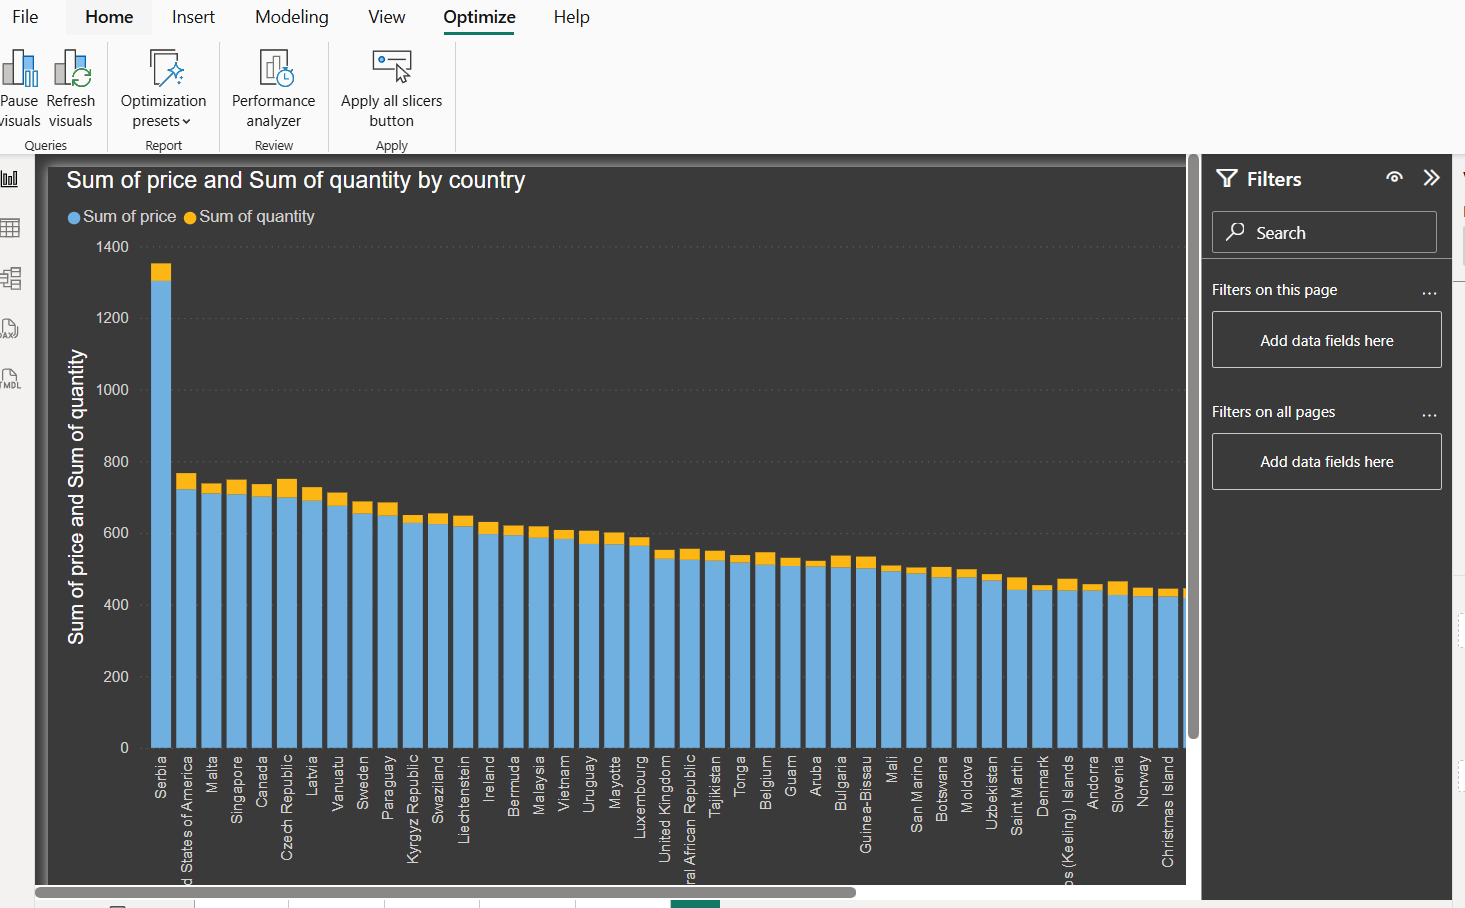

The dashboard page shown, as its layout file describes it:
{"tool":"powerbi","page":{"name":"Page 2","canvas":[1280,720],"ordinal":1},"visuals":[{"type":"clusteredColumnChart","fields":{"Y":["Sum(run-1752526286075-part-r-00000.price)","Sum(run-1752526286075-part-r-00000.quantity)"],"Category":["run-1752526286075-part-r-00000.sale_date.Variation.Date Hierarchy.Year","run-1752526286075-part-r-00000.sale_date.Variation.Date Hierarchy.Quarter","run-1752526286075-part-r-00000.sale_date.Variation.Date Hierarchy.Month","run-1752526286075-part-r-00000.sale_date.Variation.Date Hierarchy.Day"]},"box":[9.6,0,1270.7,720.4],"z":0}]}

Visuals, with their boxes on the page's 1280x720 design canvas (x1, y1, x2, y2). These are canvas units, not pixel positions in the 1465x908 screenshot, which may show the page scaled, cropped or inside an application window:
clusteredColumnChart - Sum(run-1752526286075-part-r-00000.price) x Sum(run-1752526286075-part-r-00000.quantity): <box>10,0,1280,720</box>
